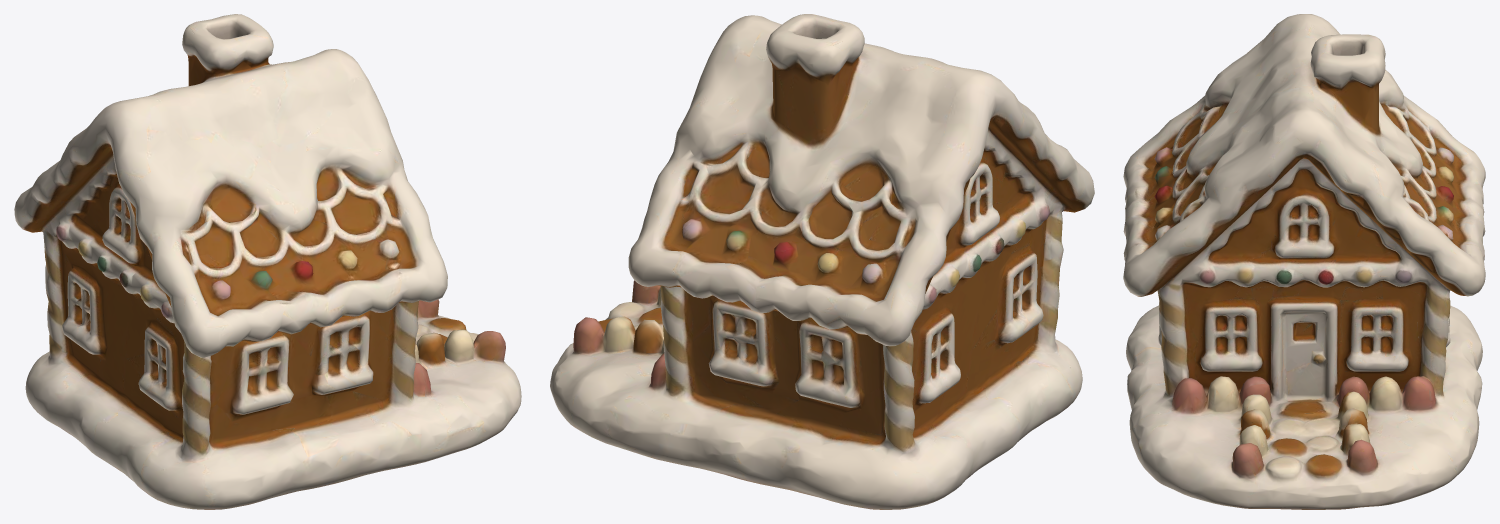
Rendered from gingerbread.glb.
The picture shows the model from 3 angles, left to right: view 1: azimuth 30°, elevation 25°; view 2: azimuth 150°, elevation 25°; view 3: azimuth 270°, elevation 25°; orthographic projection. The views are drawn at different scales.
Size of the model in its own units: 2 by 1.81 by 1.66.
Materials: 1 (1 with a texture image).
